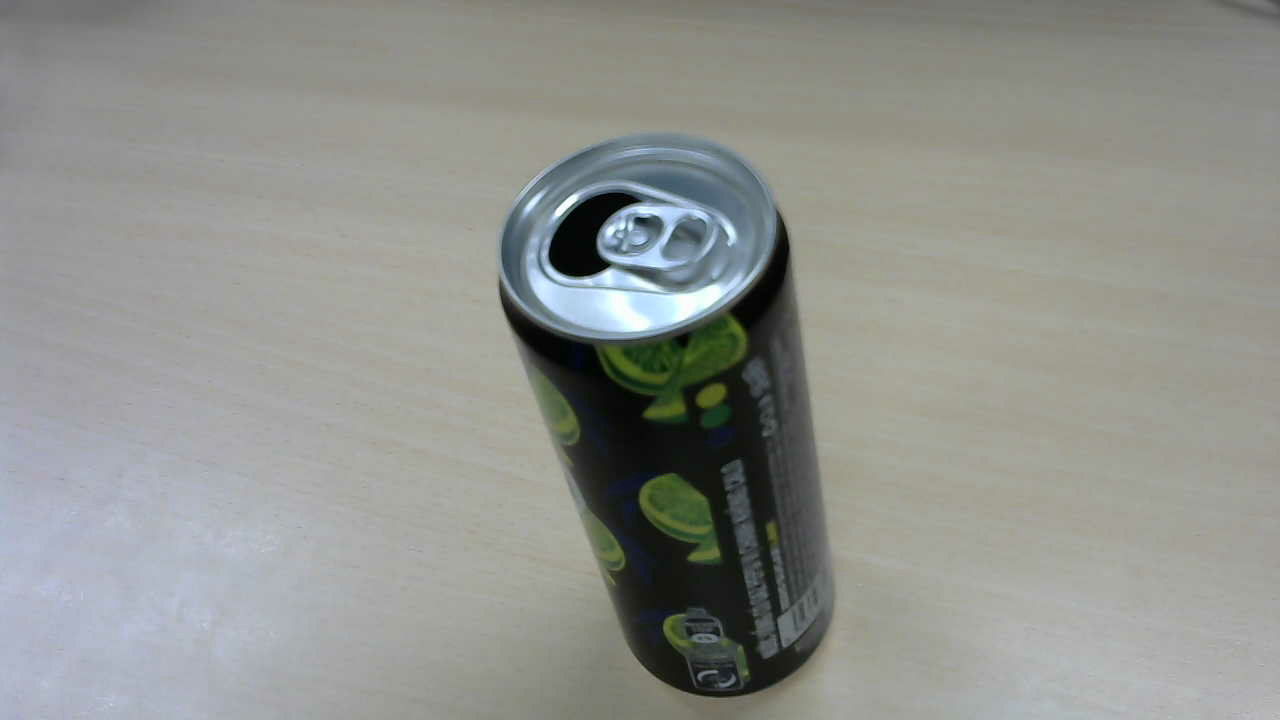Pepsi: (501, 136, 842, 700)
